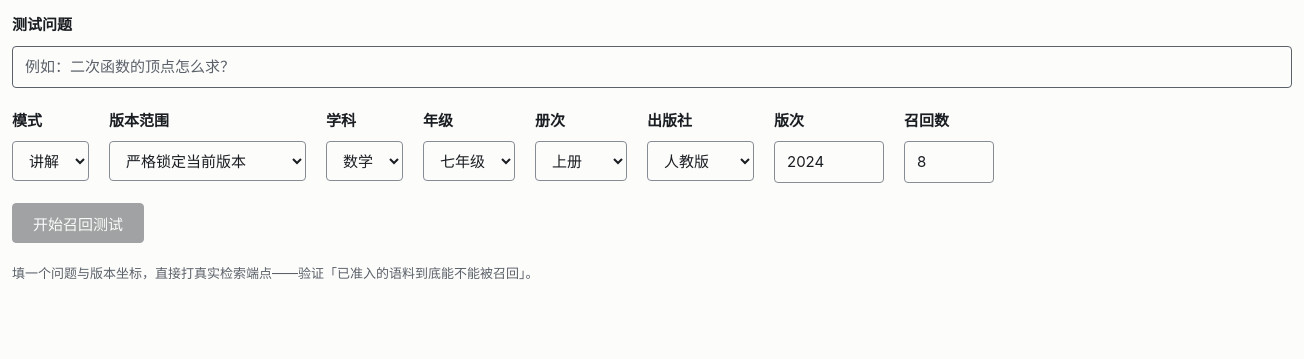
召回测试 › 召回到 0 条是合法空态，⛔ 不得呈现为故障
Type "二次函数" into the field labelled "测试问题".
click(652, 66); type("二次函数")  # box [12,46,1292,88]
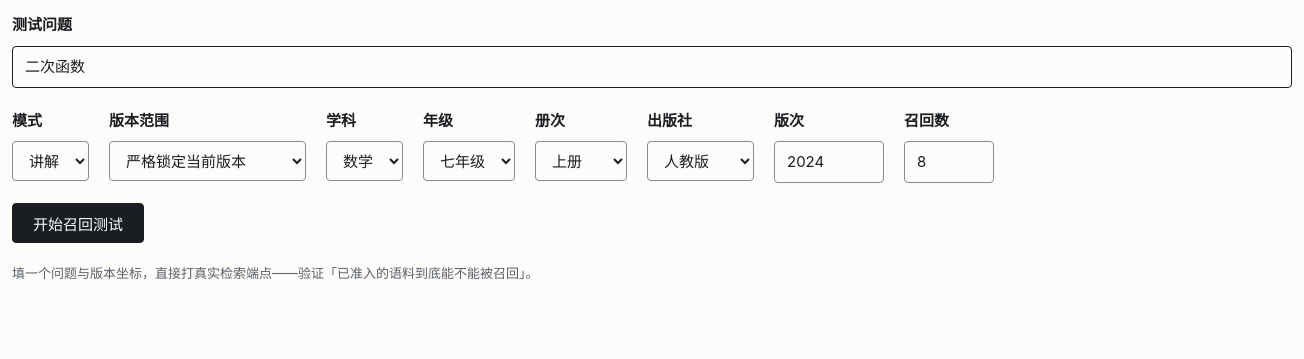
Click the button "开始召回测试".
click(78, 223)  # box [12,203,144,243]
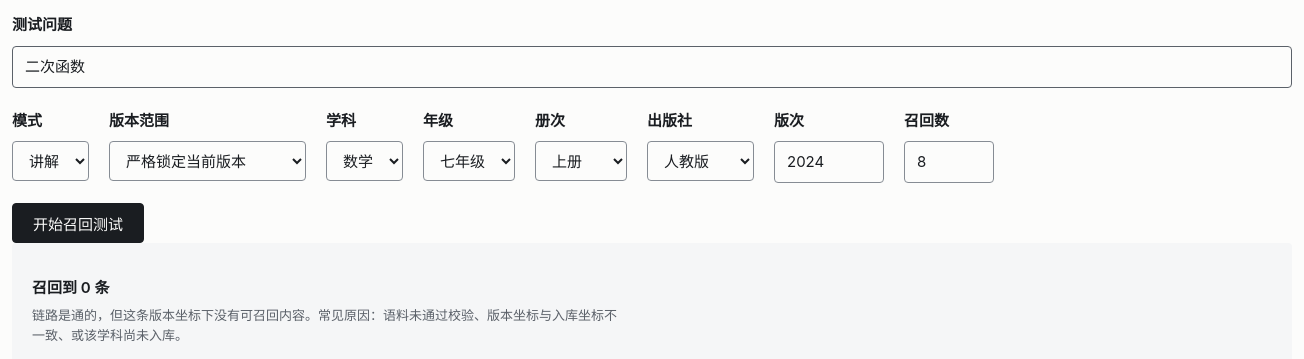
Now the text "召回到 0 条" is shown, box [32,278,110,297]
